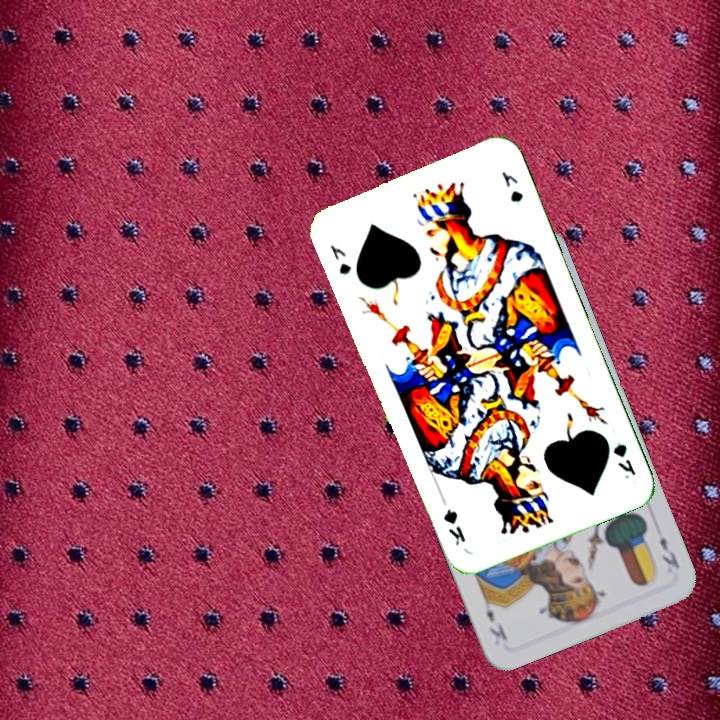EK: (656, 532, 683, 571)
GK: (608, 439, 639, 482), (326, 240, 354, 278)
